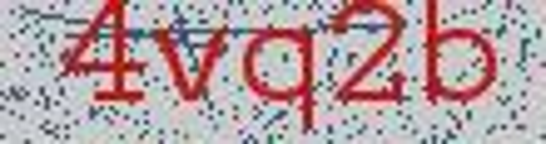2: (326, 2, 412, 113)
4: (57, 1, 153, 119)
b: (420, 1, 502, 111)
q: (241, 21, 320, 137)
v: (152, 19, 237, 103)
